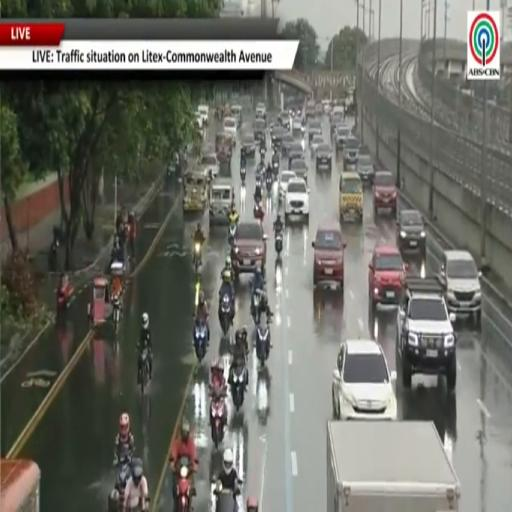bus: (0, 459, 40, 511)
car: (396, 278, 456, 391), (333, 340, 397, 421), (438, 250, 482, 327), (369, 246, 407, 313), (312, 221, 345, 287), (231, 221, 267, 277), (396, 210, 426, 259), (373, 171, 397, 216), (285, 179, 309, 219), (343, 136, 359, 168), (357, 154, 374, 184), (279, 171, 296, 200), (201, 152, 219, 179), (289, 158, 308, 183), (335, 123, 350, 152), (316, 143, 332, 170), (223, 117, 237, 143), (307, 119, 322, 142), (288, 147, 305, 167), (271, 126, 284, 151), (241, 134, 255, 157), (254, 119, 266, 145), (310, 135, 324, 157), (330, 114, 343, 137), (292, 117, 305, 138), (282, 134, 294, 156), (291, 140, 305, 158), (231, 105, 242, 127), (330, 105, 344, 120), (198, 105, 208, 126), (279, 111, 290, 130), (195, 112, 203, 134), (305, 101, 314, 119), (293, 102, 303, 118), (256, 103, 266, 119), (322, 99, 331, 115), (315, 102, 323, 116)
jeepney: (339, 172, 363, 222), (183, 169, 208, 212), (216, 132, 232, 164)
motorcycle: (109, 453, 131, 509), (177, 457, 196, 511), (210, 392, 226, 447), (214, 482, 242, 511), (231, 364, 247, 411), (256, 322, 270, 366), (194, 322, 207, 363), (57, 283, 73, 315), (220, 294, 232, 335), (140, 348, 149, 394), (111, 294, 121, 332), (251, 291, 262, 325), (48, 240, 58, 271), (194, 243, 201, 274), (228, 222, 236, 247), (254, 202, 264, 221), (275, 231, 282, 258), (272, 155, 279, 175), (266, 175, 273, 195), (240, 166, 246, 187), (256, 163, 264, 177), (259, 146, 266, 161)
tricycle: (88, 276, 111, 326)
truck: (327, 421, 460, 511)
